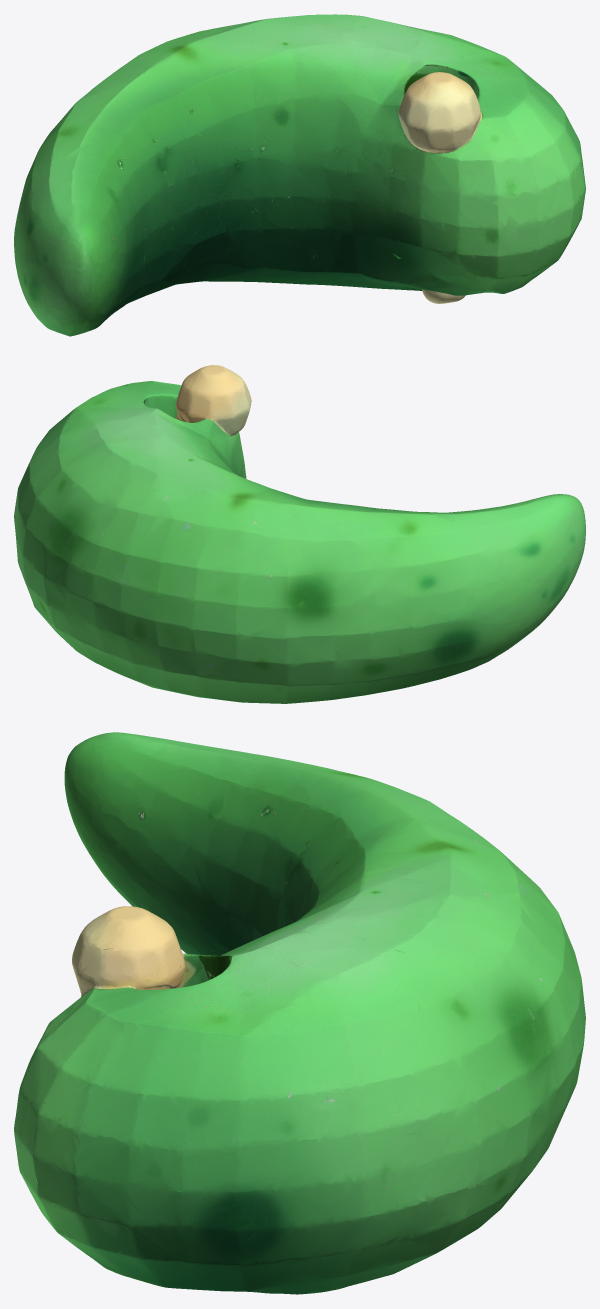
File: jade.glb
The picture shows the model from 3 angles, top to bottom: view 1: azimuth 30°, elevation 25°; view 2: azimuth 150°, elevation 25°; view 3: azimuth 270°, elevation 25°; orthographic projection. The views are drawn at different scales.
Size of the model in its own units: 1.9 by 0.8495 by 1.25.
1 material, 1 textured.
